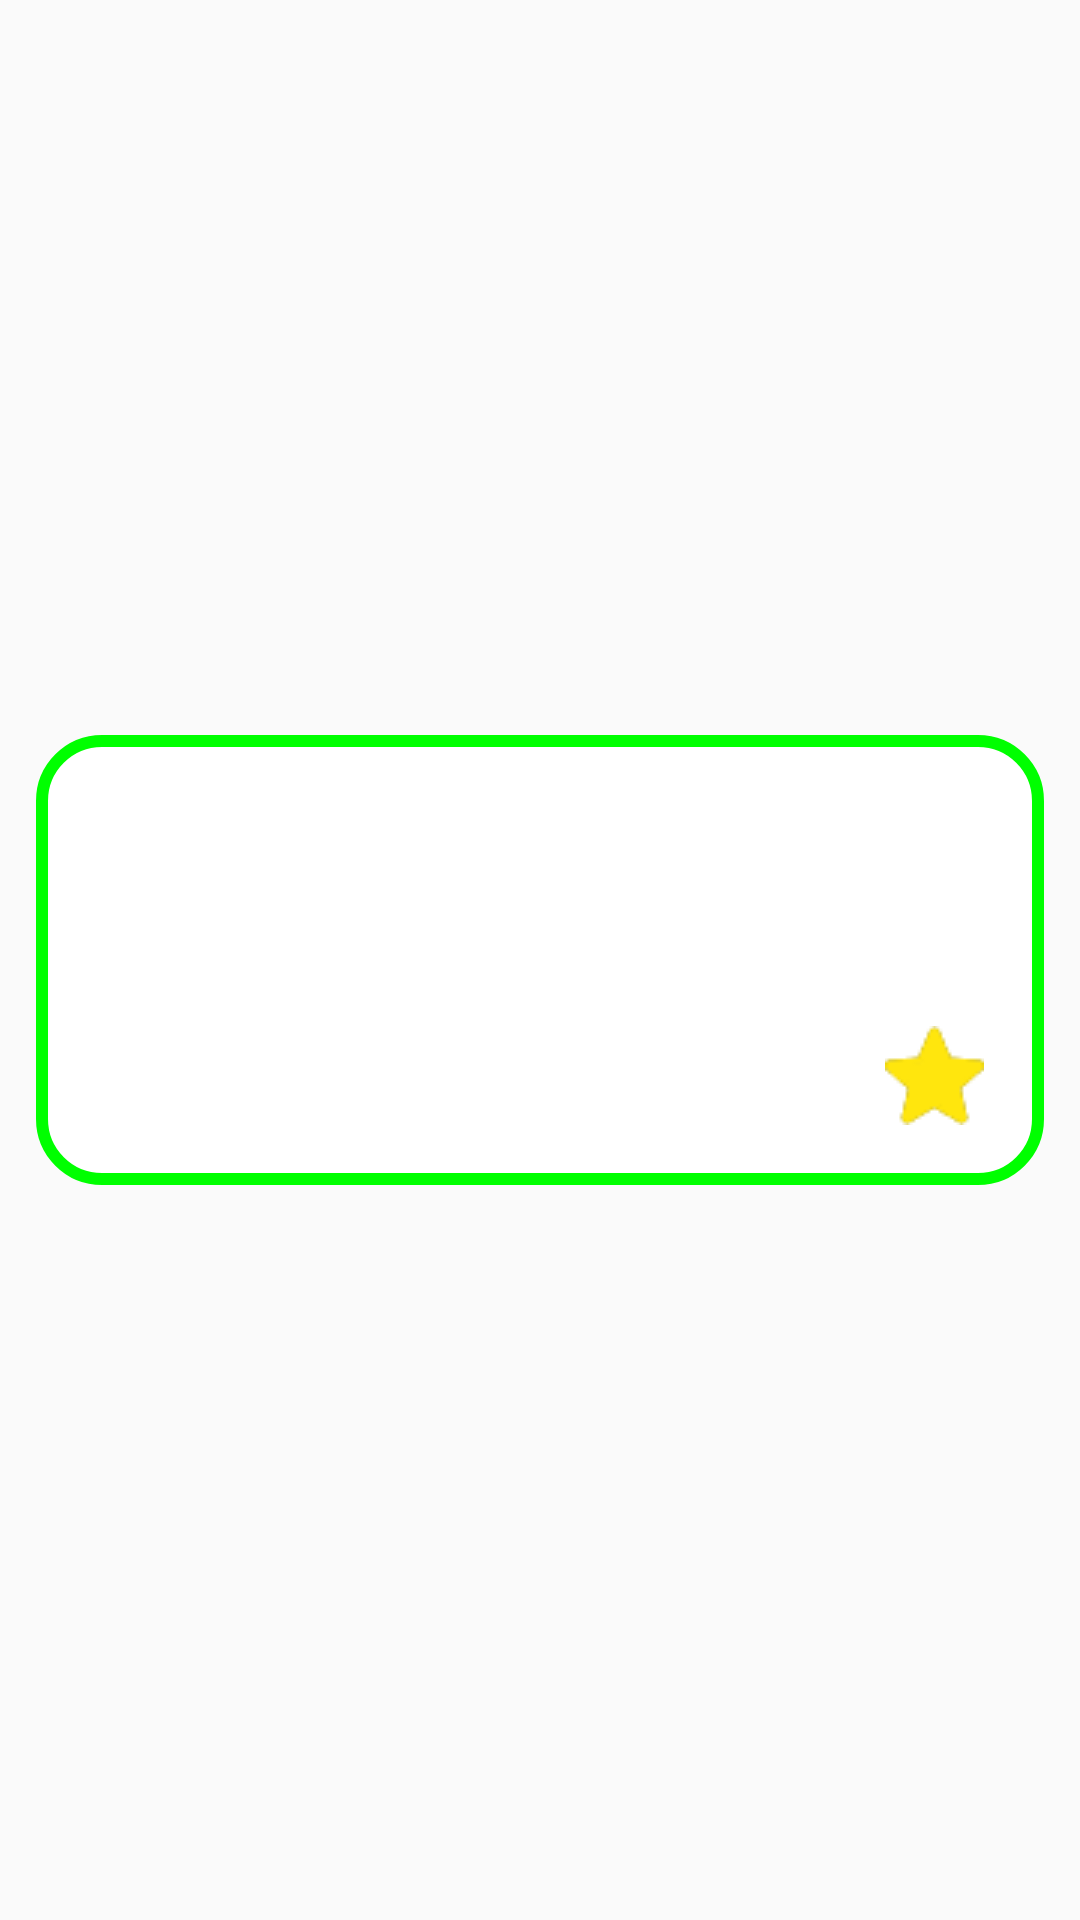

Screen size 1080 x 1920. Icon name, then its center in pixels as point (x, y):
star: point (934, 1075)
